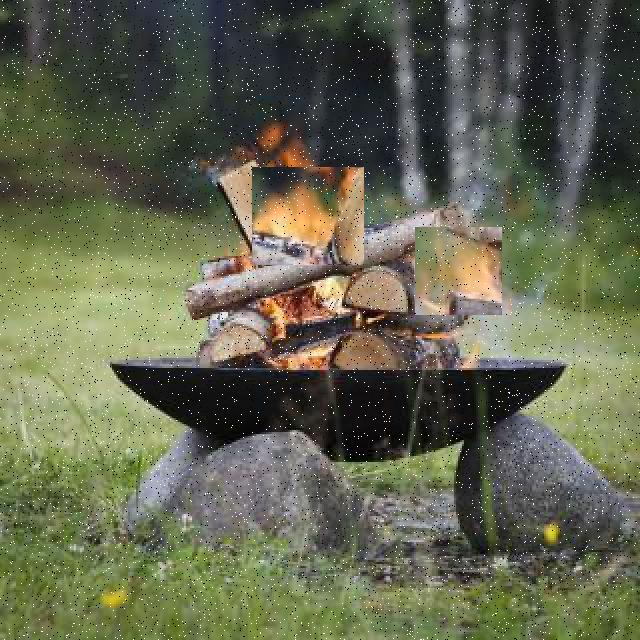fire: (252, 167, 364, 265), (415, 227, 502, 315)
